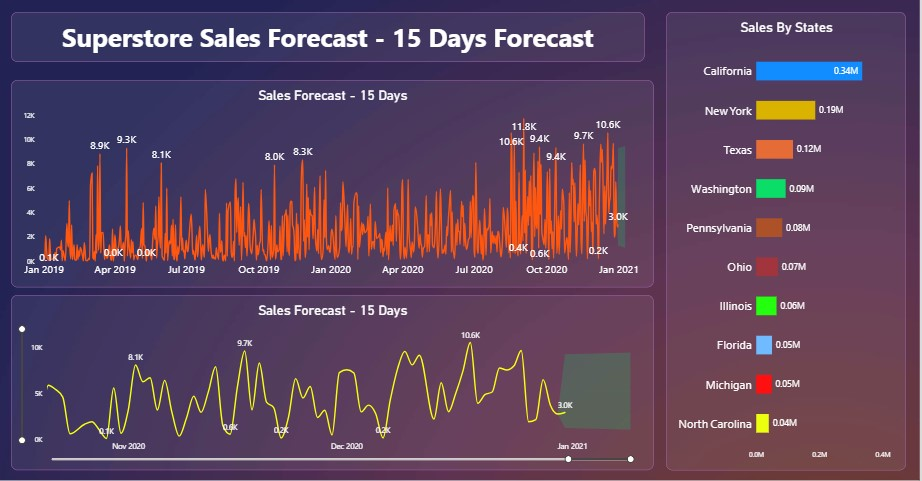

The page's visual inventory and layout, read from the dashboard file:
{"tool":"powerbi","page":{"name":"SSS Forecast","canvas":[1920,1080],"ordinal":1},"visuals":[{"type":"lineChart","fields":{"Category":["Sheet1.Order Date"],"Y":["Sum(Sheet1.Sales)"]},"box":[27.1,202.2,1338.5,431.6],"z":0},{"type":"lineChart","fields":{"Category":["Sheet1.Order Date"],"Y":["Sum(Sheet1.Sales)"]},"box":[27.1,650.5,1338.5,364.9],"z":1000},{"type":"textbox","box":[27.1,60.5,1319.8,104.2],"z":2000},{"type":"clusteredBarChart","fields":{"Category":["Sheet1.State"],"Y":["Sum(Sheet1.Sales)"]},"box":[1390.7,60.5,500.4,954.9],"z":3000}]}

Visuals, with their boxes on the page's 1920x1080 design canvas (x1, y1, x2, y2). These are canvas units, not pixel positions in the 922x481 screenshot, which may show the page scaled, cropped or inside an application window:
lineChart - Sheet1.Order Date x Sum(Sheet1.Sales): 27:202:1366:634
lineChart - Sheet1.Order Date x Sum(Sheet1.Sales): 27:650:1366:1015
textbox: 27:60:1347:165
clusteredBarChart - Sheet1.State x Sum(Sheet1.Sales): 1391:60:1891:1015
